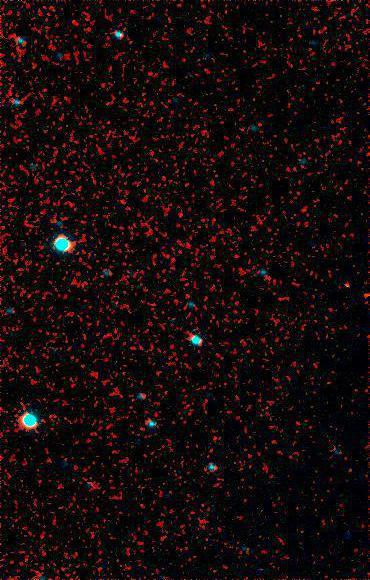star: (347, 287, 370, 317)
